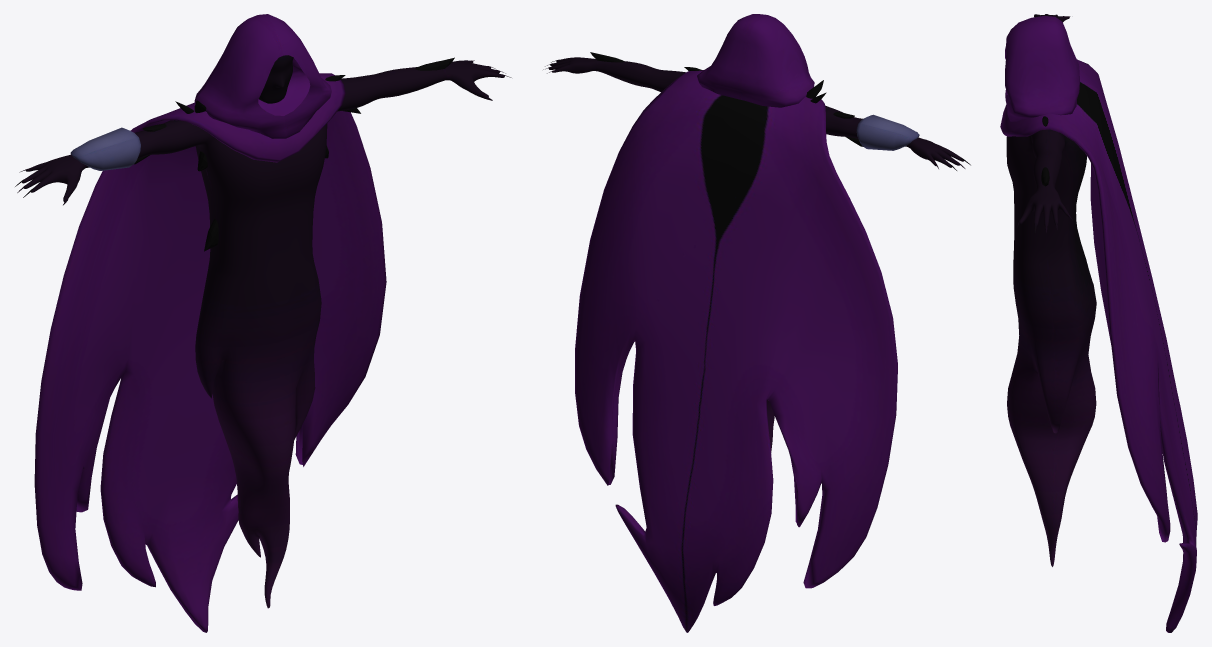
Rendered from bad guy_sin rig.fbx.
3 views of the same model, side by side, from view 1: azimuth 30°, elevation 25°; view 2: azimuth 150°, elevation 25°; view 3: azimuth 270°, elevation 25° (orthographic). The views are drawn at different scales.
Parts seen in each view (by area): view 1: Capucha.001; view 2: Capucha.001; view 3: Capucha.001.
Boxes of the visible parts, box(x1,y1,x2,y2) form: Capucha.001: box(15, 14, 511, 632); Capucha.001: box(543, 14, 970, 632); Capucha.001: box(1000, 14, 1197, 632).
Size of the model in its own units: 208 by 270 by 79.17.
1 material, 1 textured.
